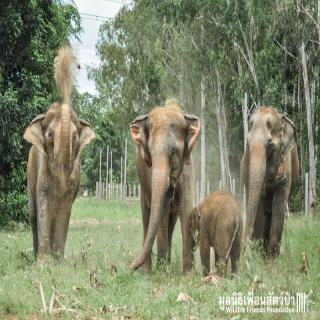Elephant: (126, 98, 204, 292), (22, 95, 98, 271), (240, 102, 304, 263), (188, 188, 244, 286)
